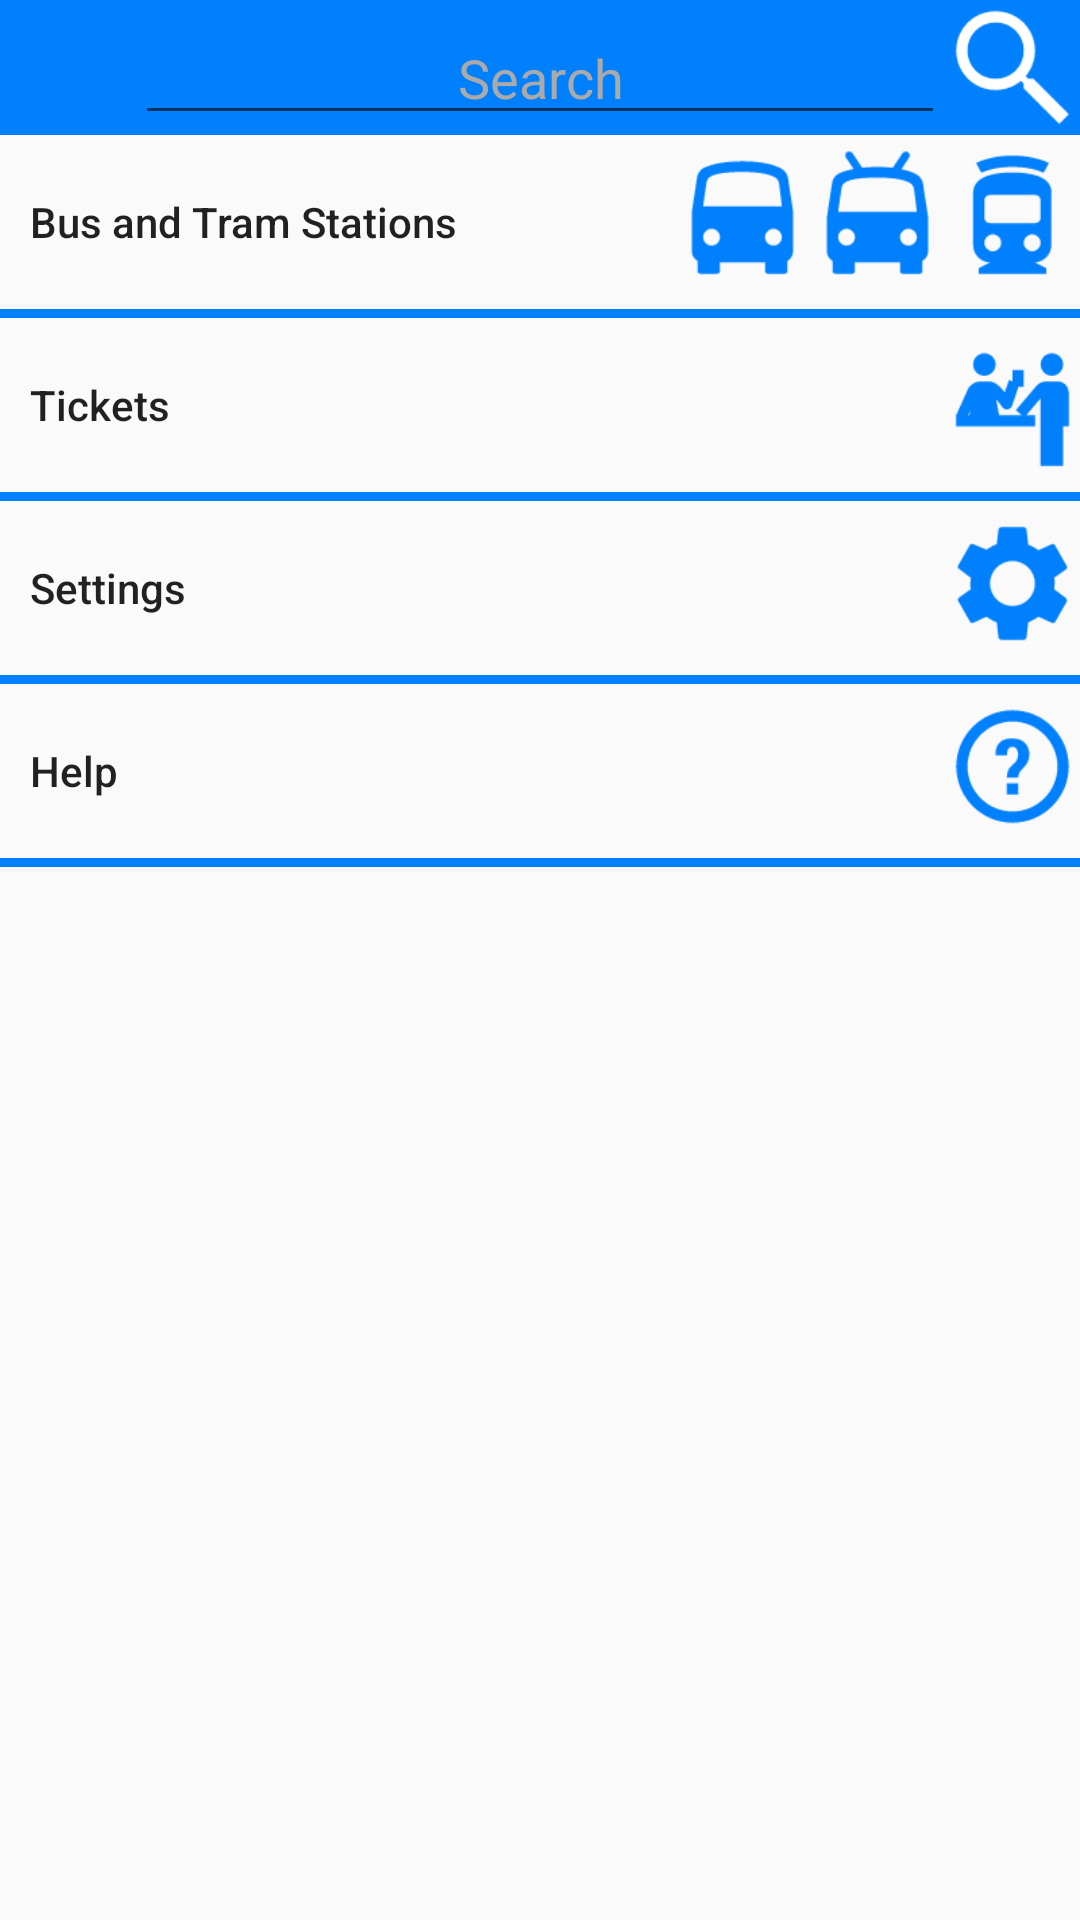

Where icons sit on this 1080x1920 app screen, as (x1, y1, x2, y2):
ticket info: (955, 352, 1070, 467)
trolleybus: (826, 151, 929, 275)
